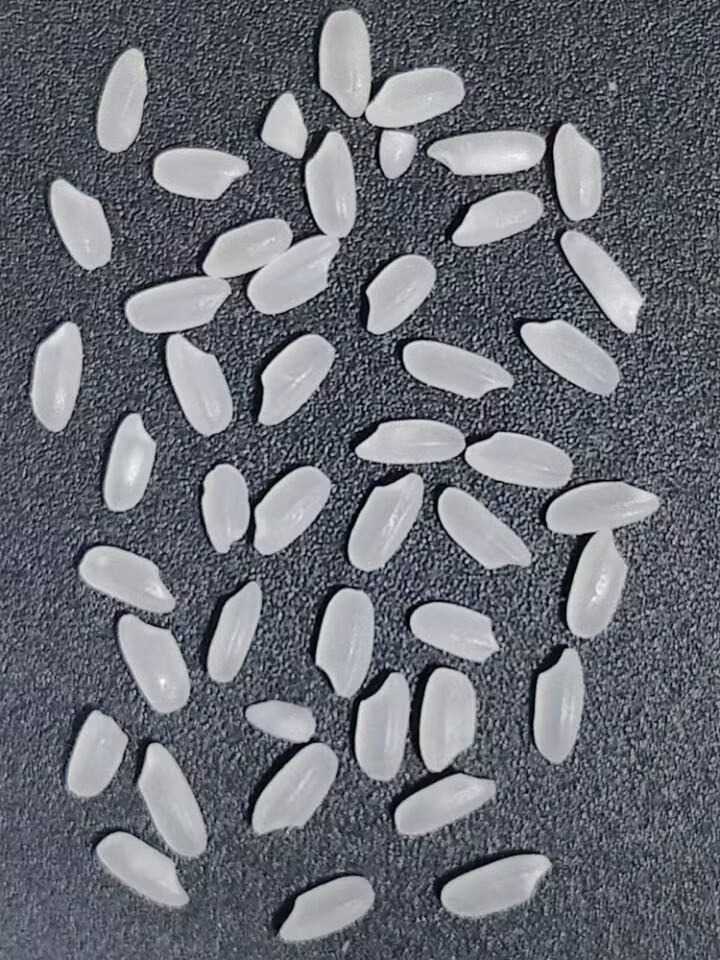broken: (258, 90, 312, 163), (244, 699, 316, 744), (368, 125, 420, 184)
rice: (132, 734, 214, 865), (430, 484, 537, 575), (106, 612, 196, 718), (341, 467, 429, 574), (156, 331, 238, 443), (247, 331, 341, 428), (249, 460, 334, 566), (560, 229, 644, 335), (244, 231, 342, 321), (350, 664, 416, 792), (396, 337, 516, 406), (251, 742, 339, 835), (353, 251, 443, 338), (462, 425, 577, 493), (117, 271, 237, 336), (201, 572, 267, 689), (520, 319, 620, 396), (297, 128, 365, 240), (312, 585, 377, 702), (350, 412, 469, 475), (311, 6, 375, 123), (45, 175, 115, 280), (96, 831, 190, 909), (418, 661, 482, 775), (441, 187, 549, 252), (360, 65, 469, 129), (441, 854, 550, 917), (419, 126, 551, 178), (143, 143, 252, 205), (567, 528, 627, 639), (547, 114, 607, 224), (394, 773, 497, 837), (79, 546, 174, 615), (279, 875, 375, 943), (97, 411, 159, 516), (197, 214, 294, 280), (545, 480, 661, 535), (533, 647, 585, 763), (30, 321, 83, 433), (96, 46, 149, 153), (66, 708, 128, 798), (409, 602, 498, 662), (201, 463, 251, 554)
